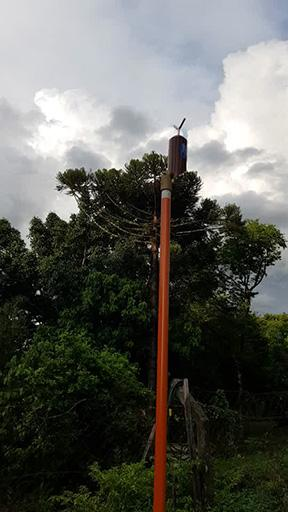Detector_Tensao_Contato: (167, 117, 188, 181)
Vara_Manobra: (151, 179, 172, 512)
